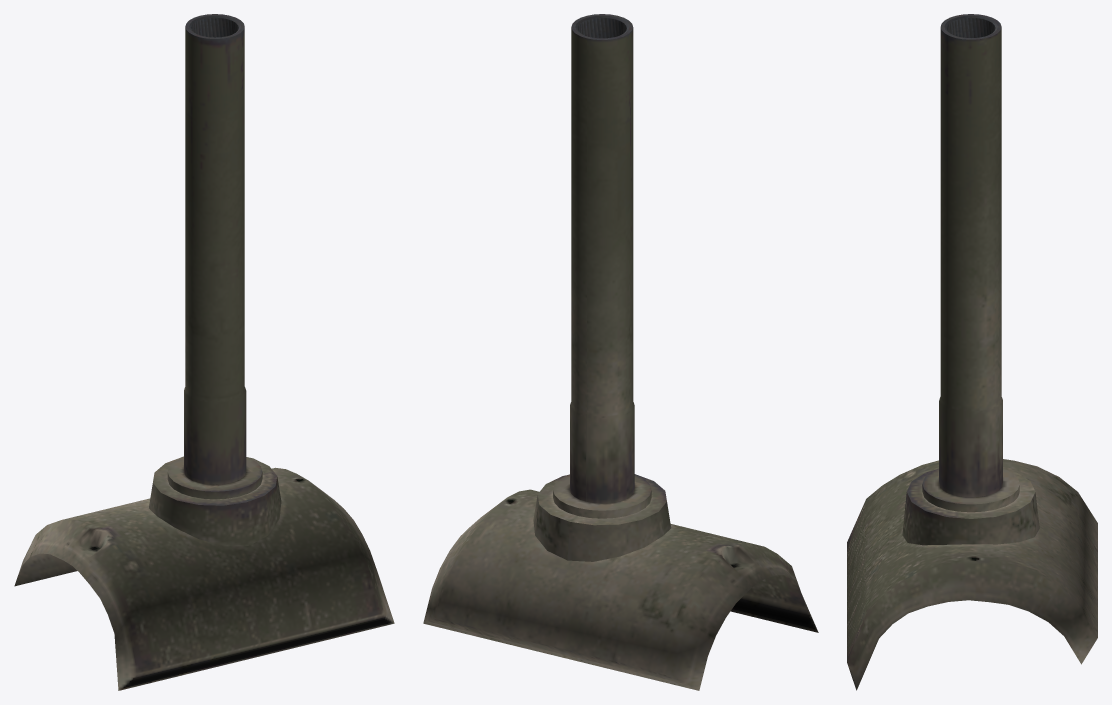
Rendered from Gun_06.glb.
The picture shows the model from 3 angles, left to right: view 1: azimuth 30°, elevation 25°; view 2: azimuth 150°, elevation 25°; view 3: azimuth 270°, elevation 25°; orthographic projection. The views are drawn at different scales.
Parts seen in each view (by area): view 1: set_0_group_0; view 2: set_0_group_0; view 3: set_0_group_0.
Part boxes in pixels (x1,y1,x2,y2): set_0_group_0: [14, 14, 394, 690]; set_0_group_0: [423, 14, 818, 690]; set_0_group_0: [847, 14, 1097, 690].
Bounding box in the file's own units: 0.8174 × 1.66 × 0.6263.
Materials: 1 (1 with a texture image).
